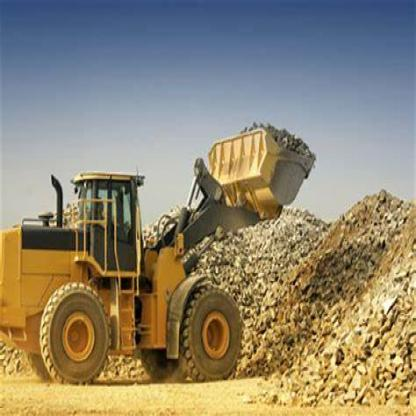bull_dozer/loader/grader: (5, 98, 326, 401)
